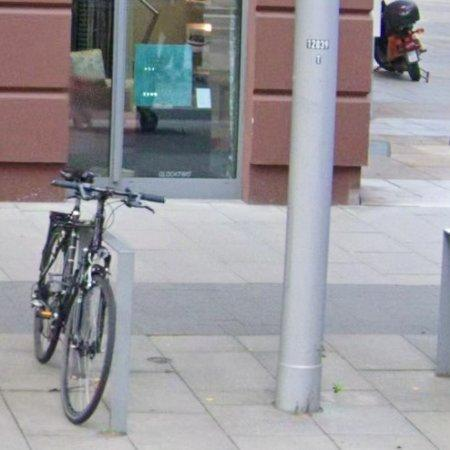bicycles: (32, 177, 164, 424)
